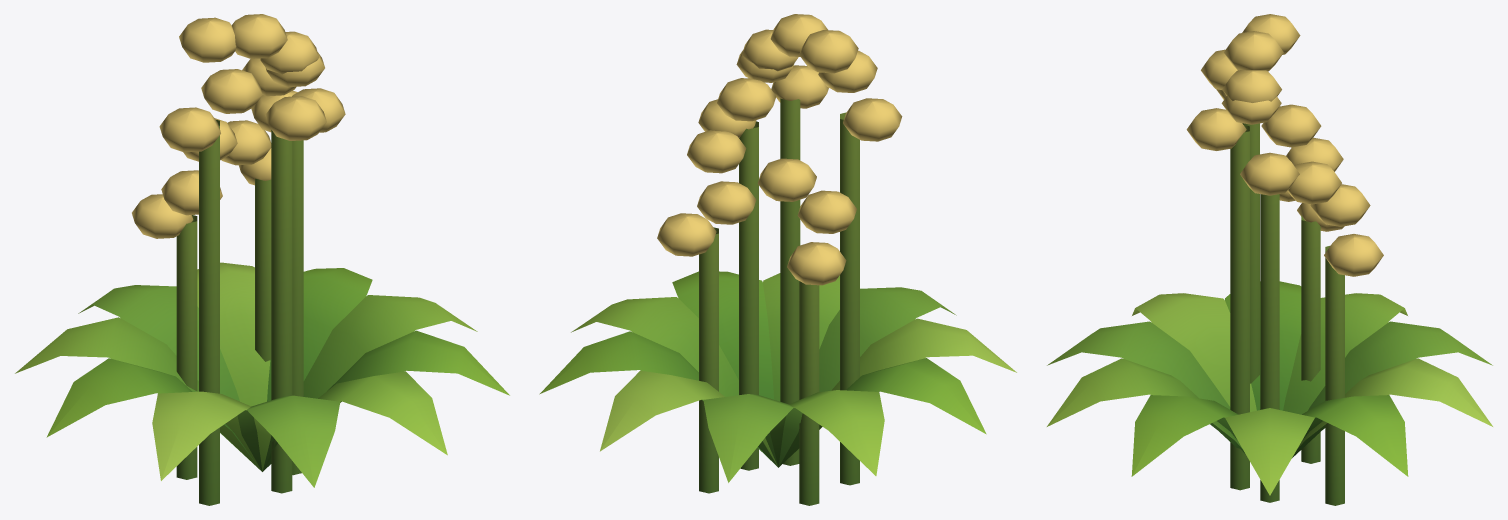
Rendered from Flowers_Yellow.fbx.
The picture shows the model from 3 angles, left to right: view 1: azimuth 30°, elevation 25°; view 2: azimuth 150°, elevation 25°; view 3: azimuth 270°, elevation 25°; orthographic projection. The views are drawn at different scales.
Visible parts, largest first — view 1: Flowers_Yellow; view 2: Flowers_Yellow; view 3: Flowers_Yellow.
Boxes of the visible parts, x1,y1,x2,y2 form: Flowers_Yellow: (15, 14, 509, 505); Flowers_Yellow: (539, 14, 1016, 505); Flowers_Yellow: (1047, 14, 1492, 505).
Bounding box in the file's own units: 0.5 × 0.5192 × 0.4755.
